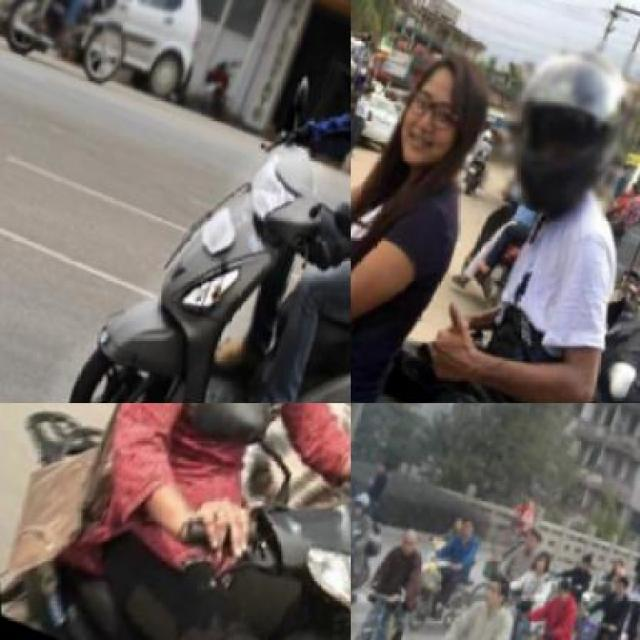With Helmet: (468, 10, 638, 238), (351, 486, 374, 519)
Without Helmet: (372, 18, 514, 190), (474, 562, 515, 613), (386, 520, 428, 566), (604, 569, 630, 602), (453, 511, 478, 538)
